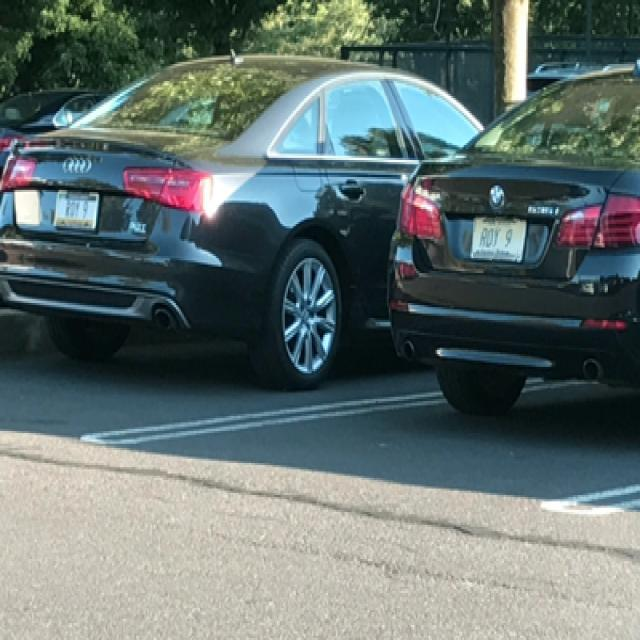licence: (474, 211, 522, 265)
